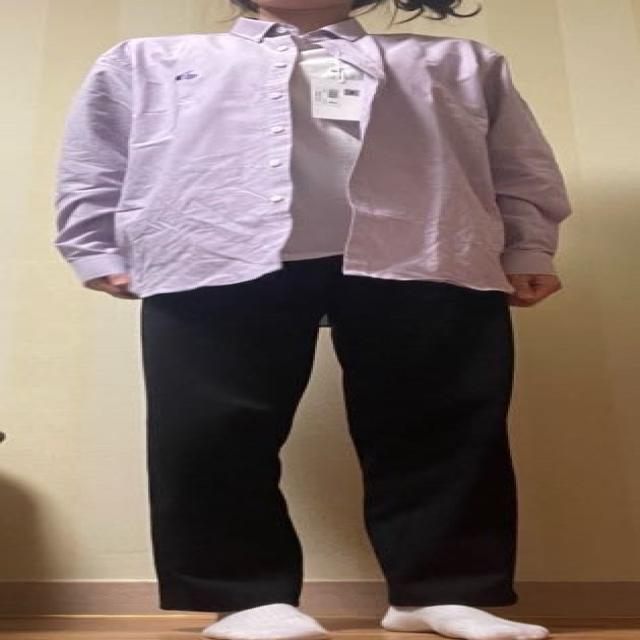shirt: (57, 18, 565, 302)
slacks: (139, 255, 515, 616)
